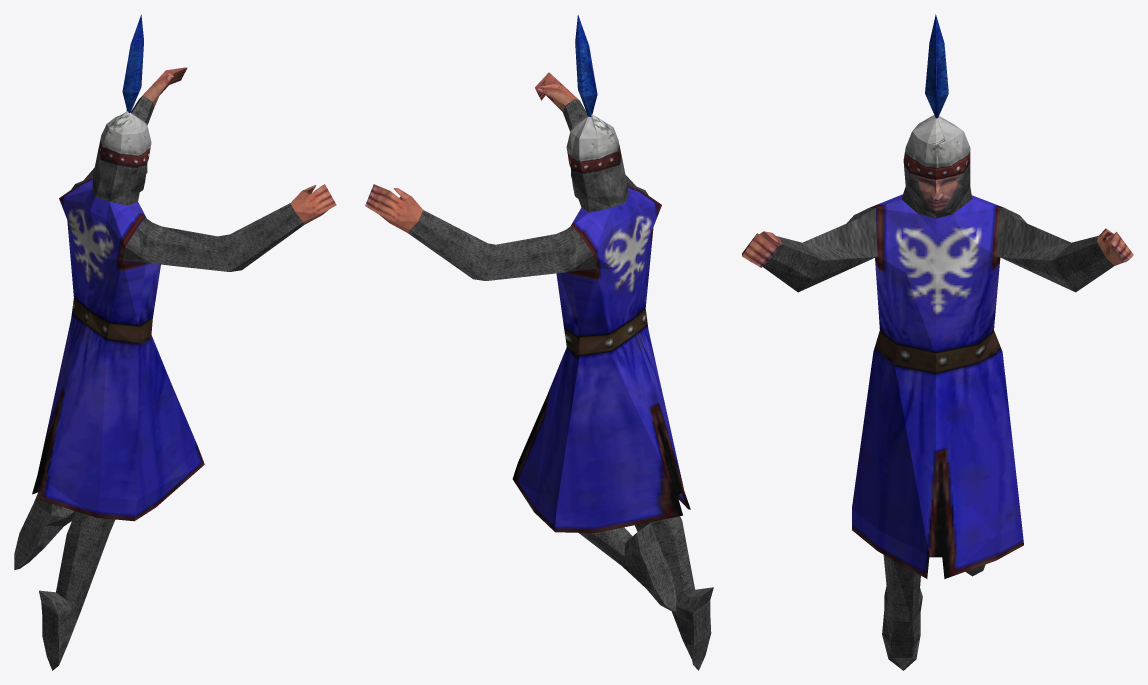
File: guard_jump.obj
3 views of the same model, side by side, from view 1: azimuth 30°, elevation 25°; view 2: azimuth 150°, elevation 25°; view 3: azimuth 270°, elevation 25° (orthographic). The views are drawn at different scales.
Visible parts, largest first — view 1: Object_1; view 2: Object_1; view 3: Object_1.
Part boxes in pixels (<box>): Object_1: <box>14,14,336,670</box>; Object_1: <box>365,15,713,670</box>; Object_1: <box>742,14,1133,670</box>.
Bounding box in the file's own units: 0.9246 × 2.36 × 1.17.
1 material, 1 textured.
